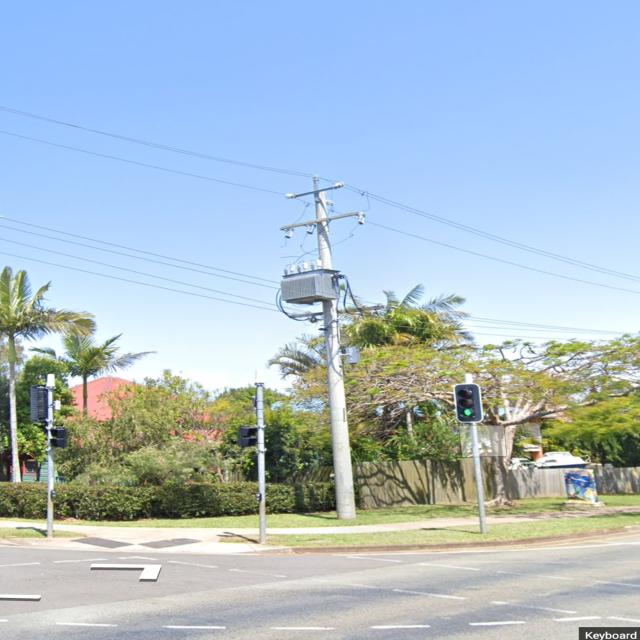HV-transmission: (278, 174, 367, 240)
concrete-pole: (314, 190, 358, 520)
crossarm: (279, 210, 361, 230), (288, 304, 385, 319), (295, 186, 335, 198)
steel-pole: (464, 373, 489, 534), (44, 372, 58, 539), (254, 382, 267, 545)
traffic-light: (453, 382, 484, 424), (28, 384, 58, 424), (237, 425, 259, 449), (48, 428, 68, 449)
transformer: (282, 262, 338, 304)
